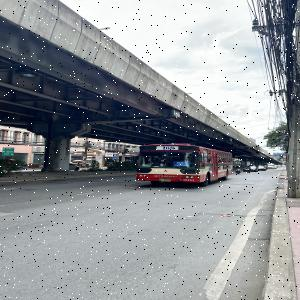BMTA-bus: (135, 144, 233, 187)
Bus Line Number: (157, 146, 180, 150)
Bus Side Number: (179, 178, 196, 182)
Destination Sign: (173, 162, 190, 166)
